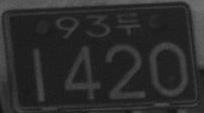0: (148, 40, 187, 96)
1: (23, 49, 55, 101)
2: (106, 43, 145, 98)
3: (84, 14, 111, 37)
4: (64, 46, 100, 100)
9: (55, 14, 79, 39)
두: (115, 11, 141, 36)
